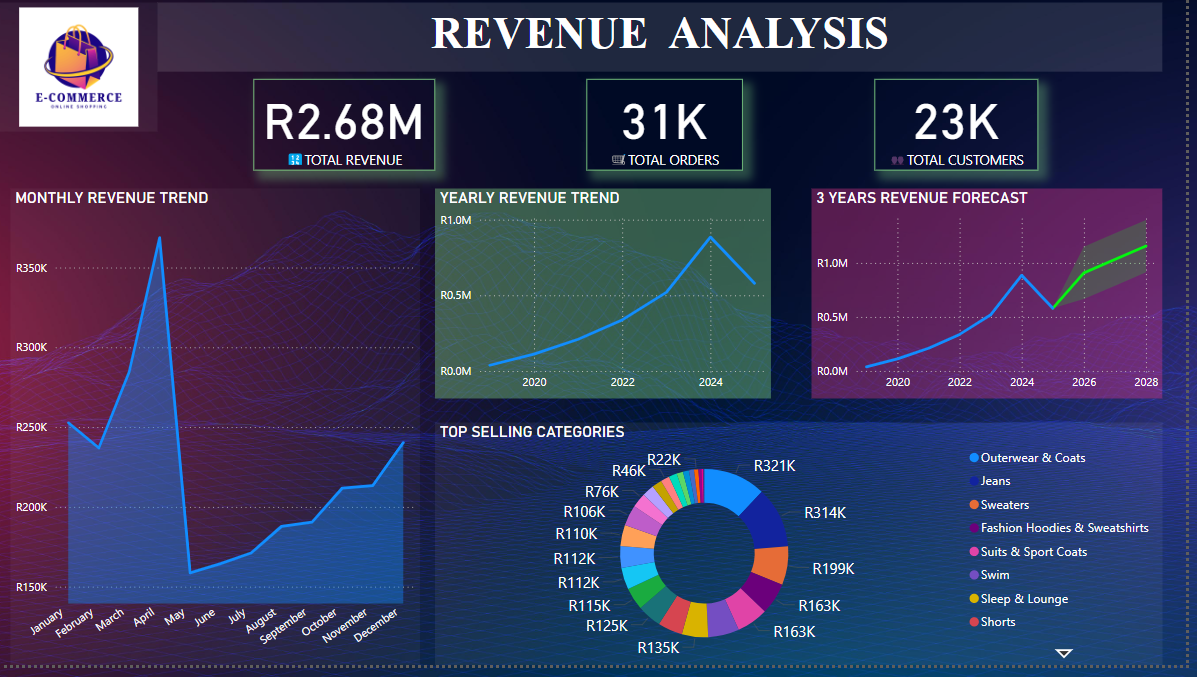

This screenshot's page, from the dashboard's own definition file:
{"tool":"powerbi","page":{"name":"Ecommerce Financial Analysis","canvas":[1280,720],"ordinal":0},"visuals":[{"type":"card","title":"Total Revenue","fields":{"Values":["Sum(bigquery-public-data thelook_ecommerce.revenue_per_item)"]},"box":[273.6,87.4,195.9,98.8],"z":0},{"type":"card","fields":{"Values":["bigquery-public-data thelook_ecommerce.Total Orders"]},"box":[633.1,87.4,168.4,98.8],"z":1000},{"type":"card","fields":{"Values":["bigquery-public-data thelook_ecommerce.Total Customers"]},"box":[944,87.4,176.5,98.8],"z":3000},{"type":"lineChart","title":"YEARLY REVENUE TREND","fields":{"Category":["bigquery-public-data thelook_ecommerce.OrderDate.Variation.Date Hierarchy.Year"],"Y":["Sum(bigquery-public-data thelook_ecommerce.revenue_per_item)"]},"box":[469.6,205.6,362.7,226.7],"z":4000},{"type":"donutChart","title":"TOP SELLING CATEGORIES","fields":{"Category":["bigquery-public-data thelook_ecommerce.product_category"],"Y":["Sum(bigquery-public-data thelook_ecommerce.revenue_per_item)"]},"box":[469.6,458.2,785.3,262.3],"z":5000},{"type":"areaChart","title":"MONTHLY REVENUE TREND","fields":{"Category":["bigquery-public-data thelook_ecommerce.OrderDate.Variation.Date Hierarchy.Month"],"Y":["Sum(bigquery-public-data thelook_ecommerce.revenue_per_item)"]},"box":[11.3,205.6,442,514.9],"z":7000},{"type":"lineChart","title":"3 YEARS REVENUE FORECAST","fields":{"Category":["bigquery-public-data thelook_ecommerce.OrderDate.Variation.Date Hierarchy.Year","bigquery-public-data thelook_ecommerce.OrderDate.Variation.Date Hierarchy.Quarter","bigquery-public-data thelook_ecommerce.OrderDate.Variation.Date Hierarchy.Month","bigquery-public-data thelook_ecommerce.OrderDate.Variation.Date Hierarchy.Day"],"Y":["Sum(bigquery-public-data thelook_ecommerce.revenue_per_item)"]},"box":[876,205.6,378.9,226.7],"z":9000},{"type":"image","box":[0,4.9,170,139.3],"z":10000},{"type":"textbox","box":[170,4.9,1084.9,74.5],"z":11000}]}

Visuals, with their boxes in screenshot pixels (x1, y1, x2, y2), scaled from the page's 1280x720 canvas onto the 1197x677 screenshot:
"Total Revenue" card: crop(256, 82, 439, 175)
card - bigquery-public-data thelook_ecommerce.Total Orders: crop(592, 82, 750, 175)
card - bigquery-public-data thelook_ecommerce.Total Customers: crop(883, 82, 1048, 175)
"YEARLY REVENUE TREND" lineChart: crop(439, 193, 778, 406)
"TOP SELLING CATEGORIES" donutChart: crop(439, 431, 1174, 676)
"MONTHLY REVENUE TREND" areaChart: crop(11, 193, 424, 676)
"3 YEARS REVENUE FORECAST" lineChart: crop(819, 193, 1174, 406)
image: crop(0, 5, 159, 136)
textbox: crop(159, 5, 1174, 75)
